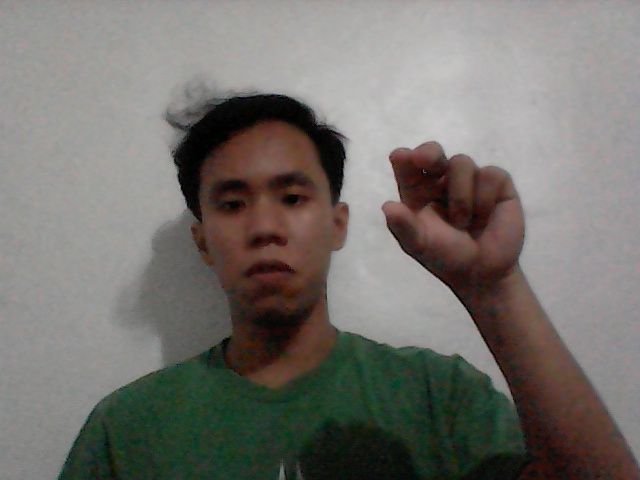No: (366, 120, 574, 313)
